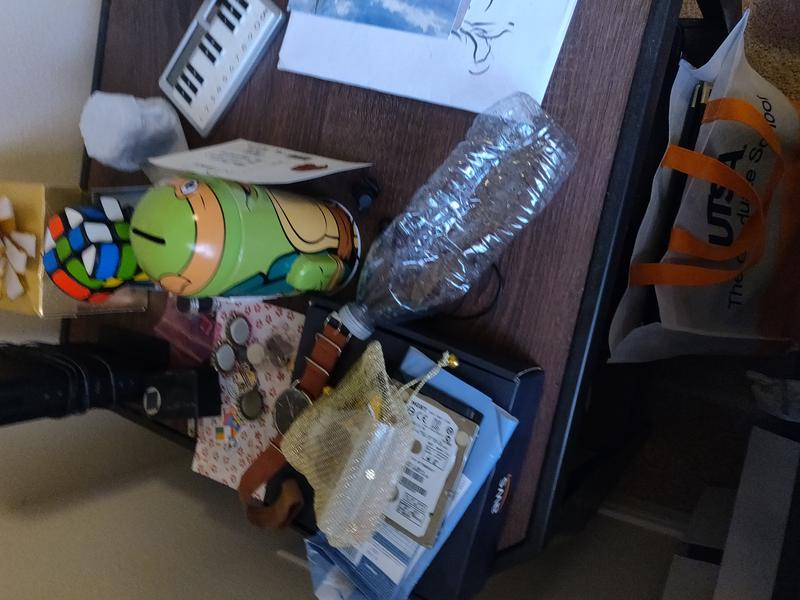bottle: (335, 87, 581, 342)
